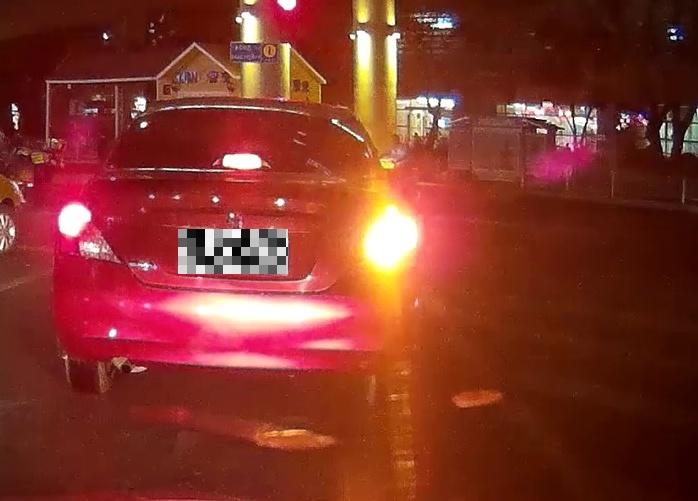L_light: (54, 203, 123, 264)
R_light: (353, 213, 414, 268)
T_light: (211, 153, 270, 169)
night-right: (51, 95, 418, 408)
plate_1: (178, 229, 288, 274)
